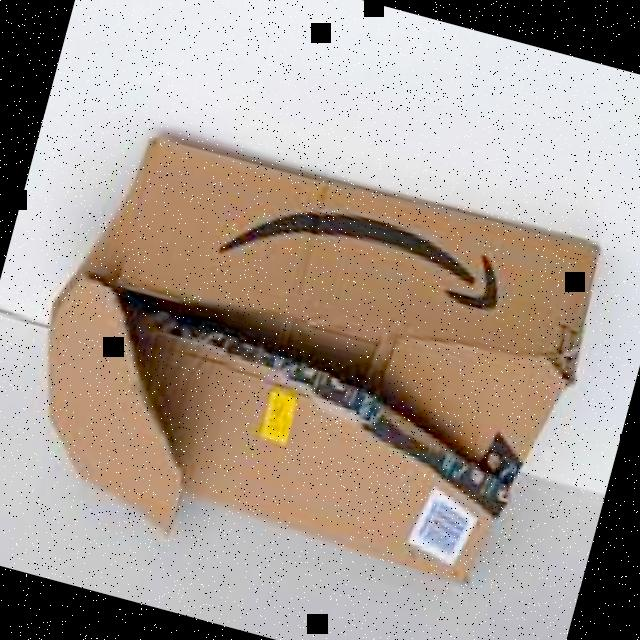cardboard_box: (0, 116, 604, 627)
